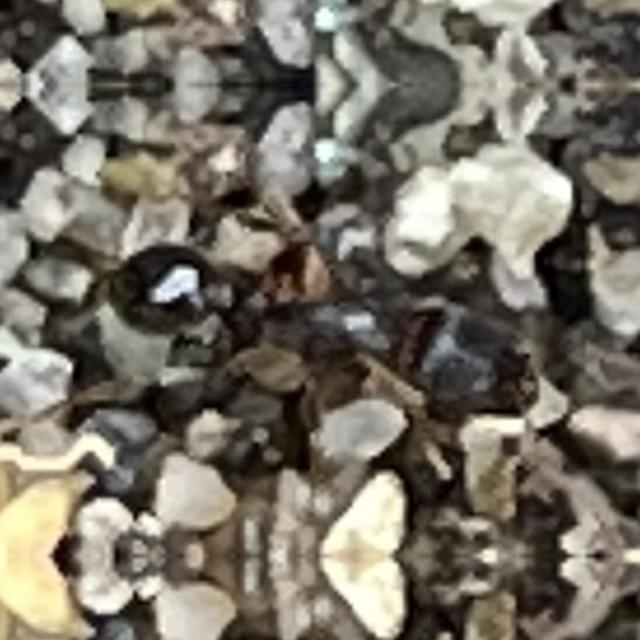Tetramorium: (100, 212, 558, 446)
